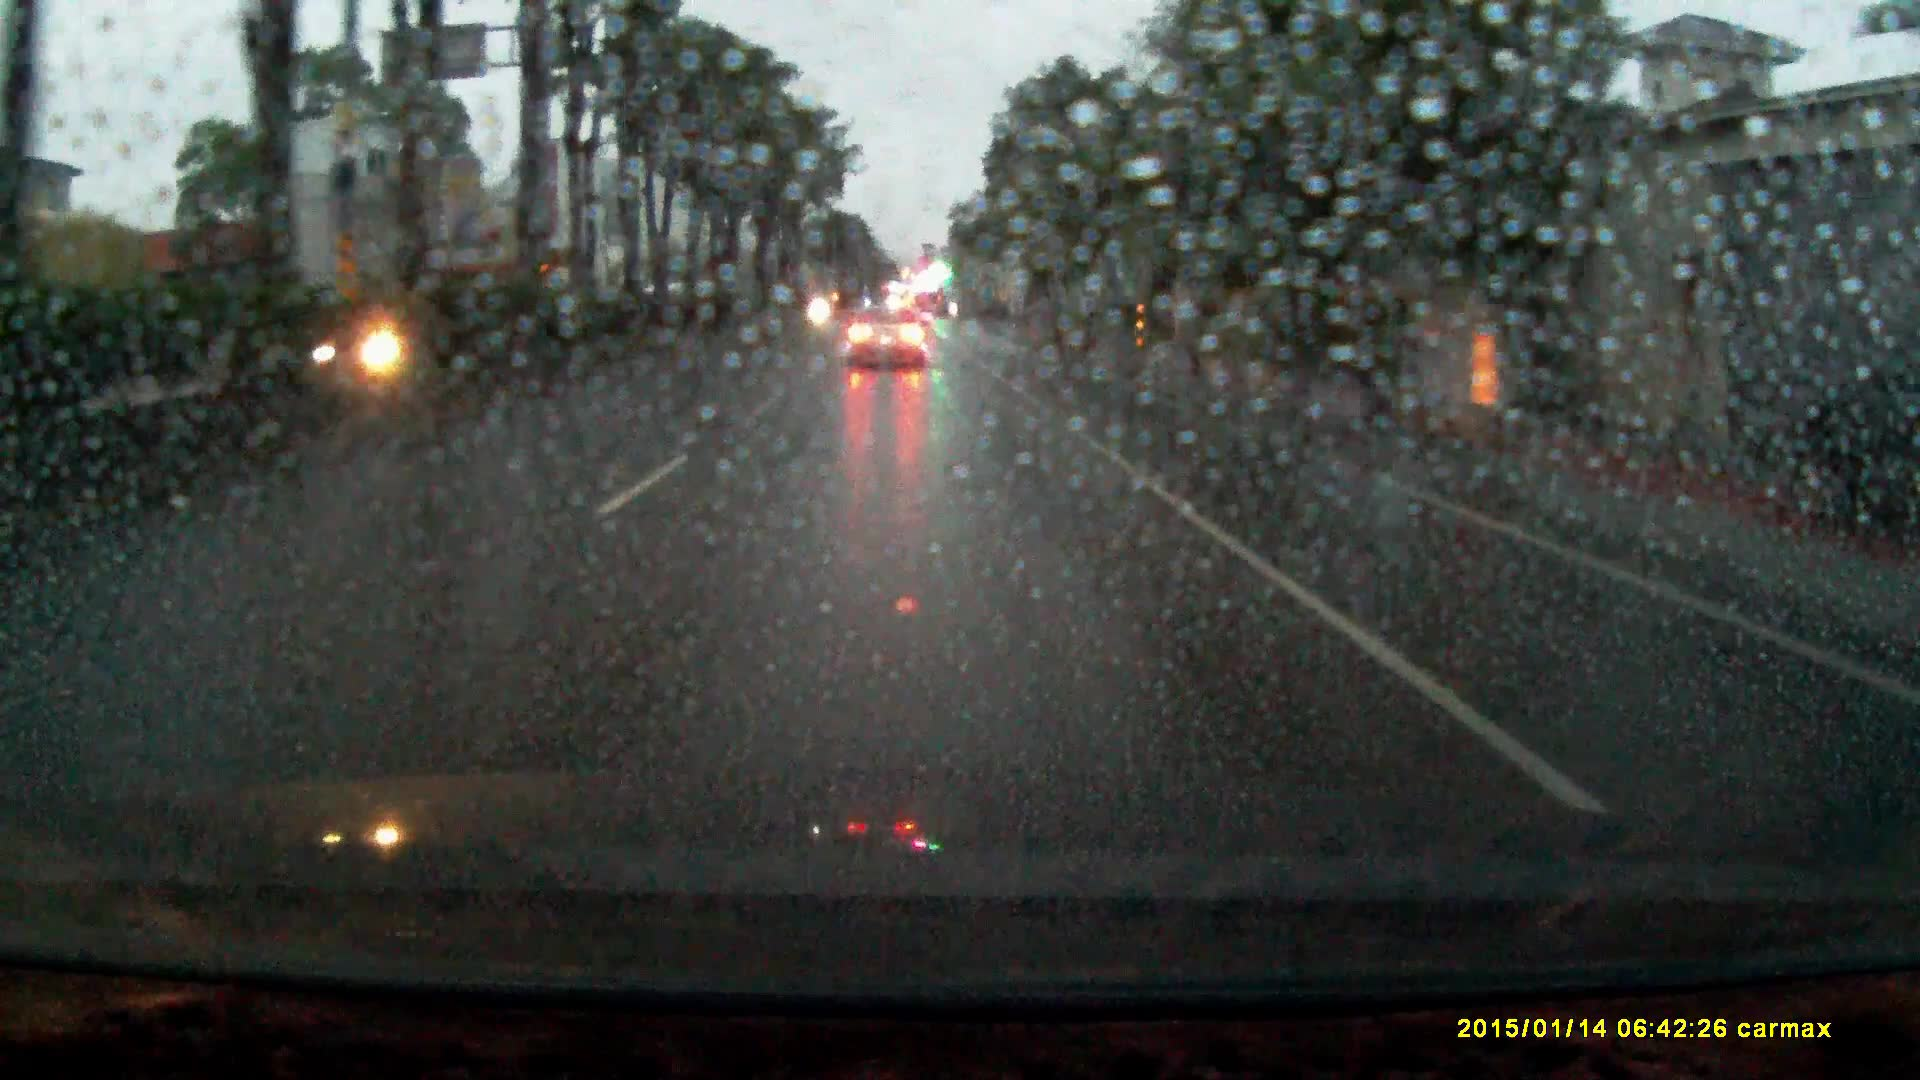vehicle: (5, 206, 177, 386), (847, 305, 928, 371)
